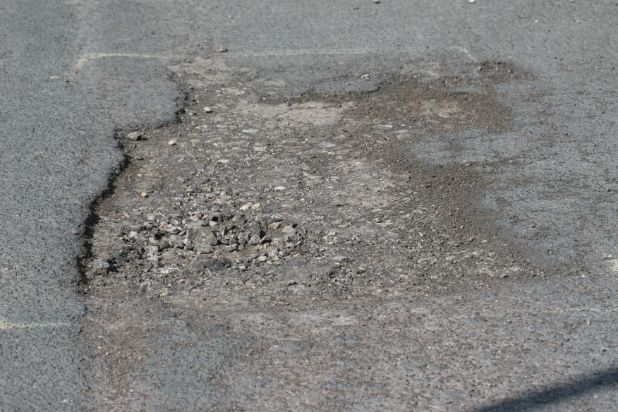pothole: (65, 51, 552, 303)
